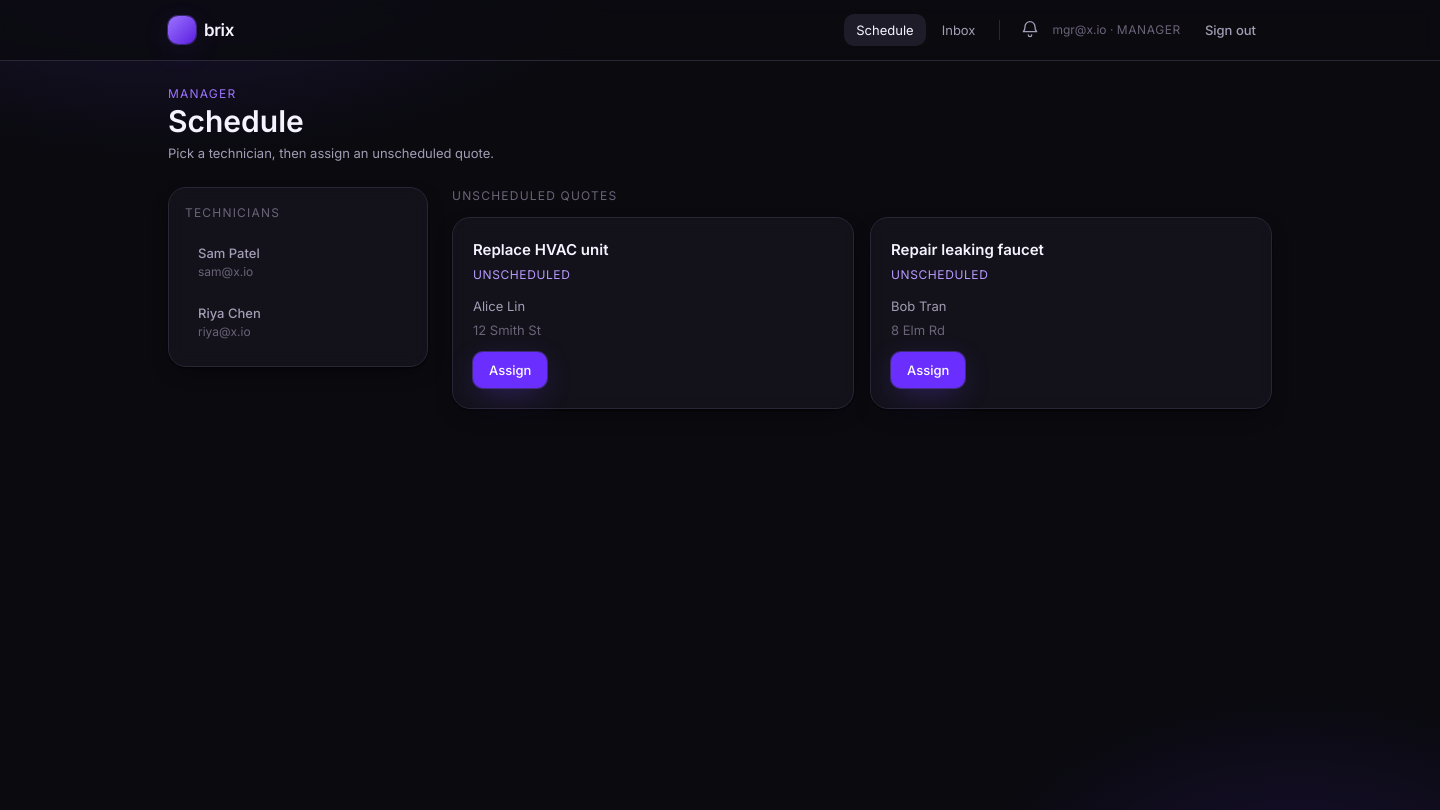
it: ManagerHome › prompts when Assign is clicked without a selected technician
Expected: the heading "Replace HVAC unit" is shown, top-left (473, 240), bottom-right (608, 259)
What coordinates should you click on to do the following:
click the button "Assign" below "12 Smith St"
I would click on:
 (510, 370)
Its box is top-left (473, 352), bottom-right (547, 388).
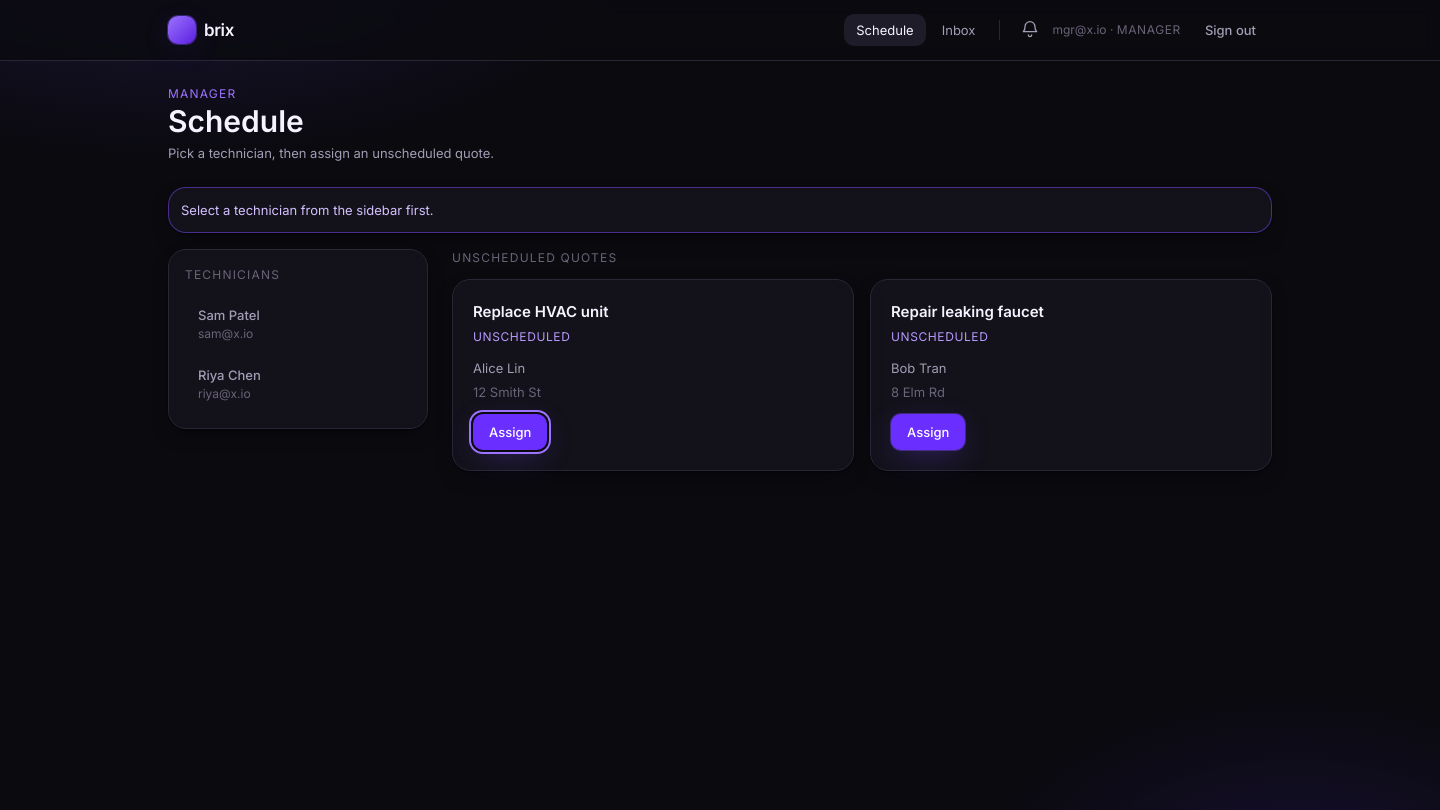
Expected: the message shows "Select a technician", top-left (181, 202), bottom-right (434, 218)
